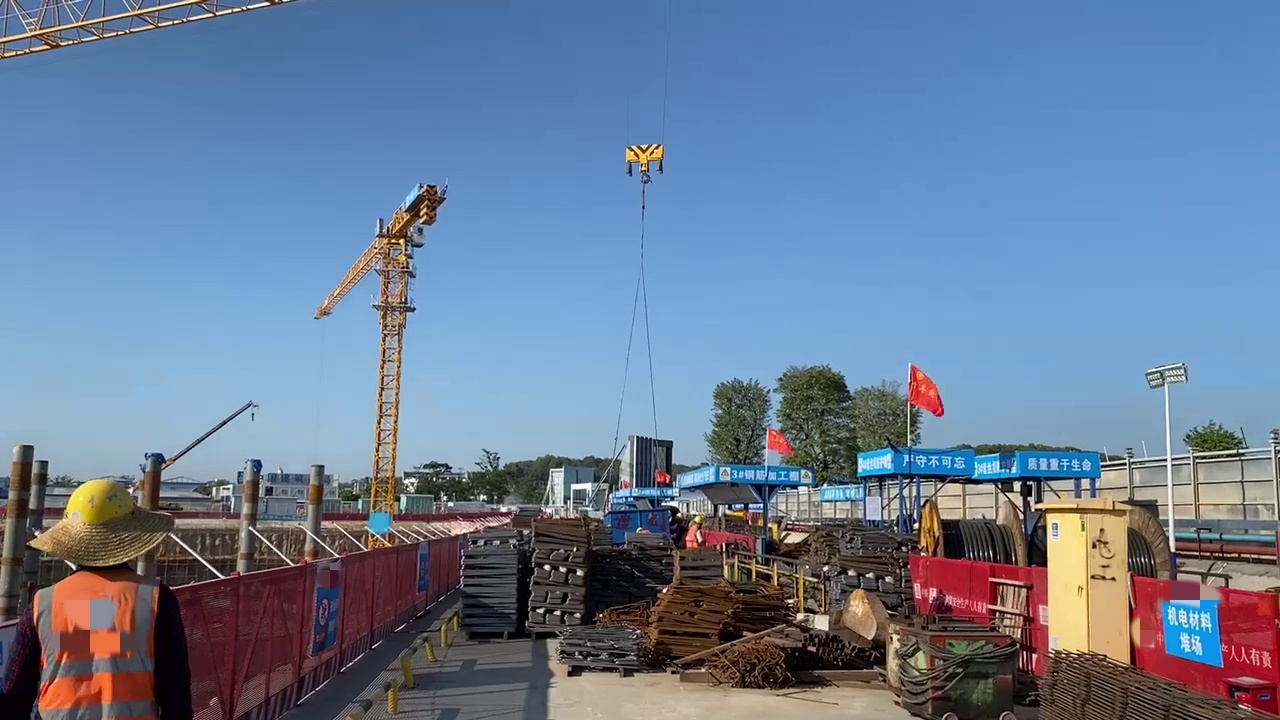ebox: (1042, 499, 1132, 663)
fence: (917, 544, 1280, 695), (175, 530, 461, 689)
helmet: (54, 475, 136, 527)
hook: (621, 138, 667, 180)
hopper: (610, 508, 668, 543)
person: (16, 477, 197, 720), (687, 516, 703, 548)
rebar: (1030, 652, 1216, 720), (648, 575, 733, 665), (528, 517, 583, 627), (468, 533, 524, 638), (797, 623, 886, 679), (810, 526, 849, 631), (723, 639, 797, 693)
slogan: (899, 449, 969, 474), (1020, 453, 1096, 474), (945, 592, 987, 616)
vest: (33, 571, 174, 720)
